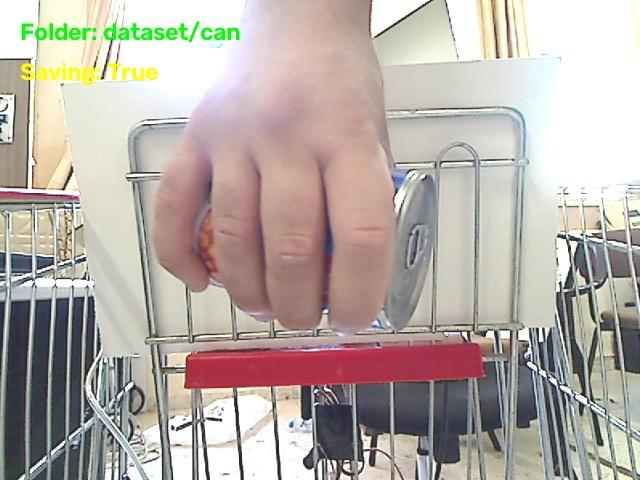can: (376, 168, 436, 329)
